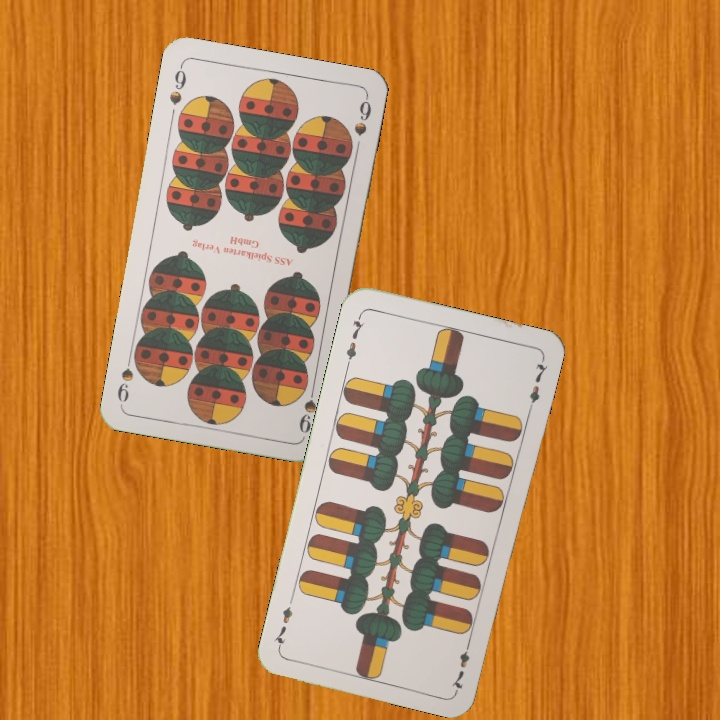E7: (447, 635, 474, 693), (342, 310, 368, 368)
S9: (294, 378, 319, 436), (165, 60, 189, 108)
